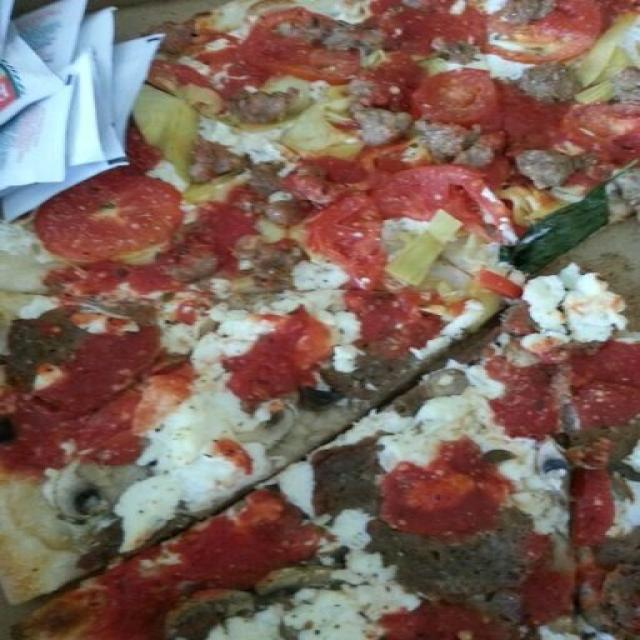Beef: (377, 534, 521, 595), (244, 167, 296, 290), (408, 120, 507, 165), (314, 446, 376, 517), (169, 593, 252, 639), (601, 536, 640, 632), (278, 20, 384, 46), (522, 61, 584, 102), (406, 368, 459, 415), (513, 149, 580, 185), (331, 362, 408, 393), (230, 90, 300, 121), (361, 103, 405, 142), (192, 140, 241, 174), (171, 251, 224, 278), (499, 0, 556, 23), (268, 567, 328, 588)
Cheese: (146, 397, 235, 537), (255, 606, 377, 640), (535, 278, 609, 331)
Mushrooms: (51, 462, 100, 522)
Pizza: (0, 0, 640, 640)
Tomato: (16, 308, 165, 414), (39, 172, 184, 261), (373, 170, 518, 241), (248, 10, 355, 80), (483, 0, 601, 57), (321, 195, 387, 282), (556, 102, 640, 159), (416, 69, 492, 121)
